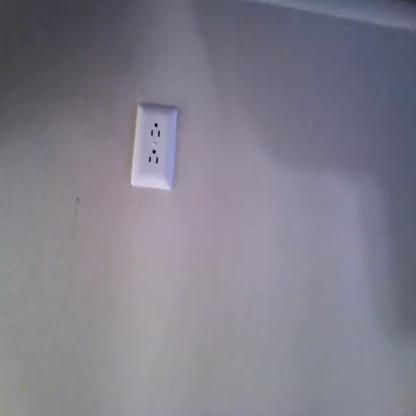OUTLET: (130, 107, 179, 190)
